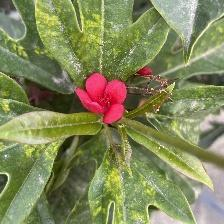jatropha: (75, 73, 130, 130)
